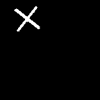single_crochet: (15, 7, 38, 30)
